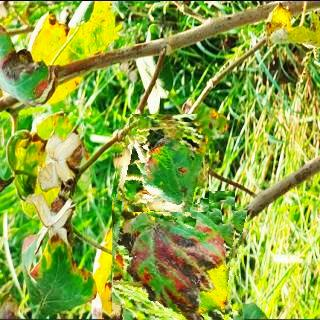blight: (112, 189, 246, 320), (114, 116, 209, 211)
